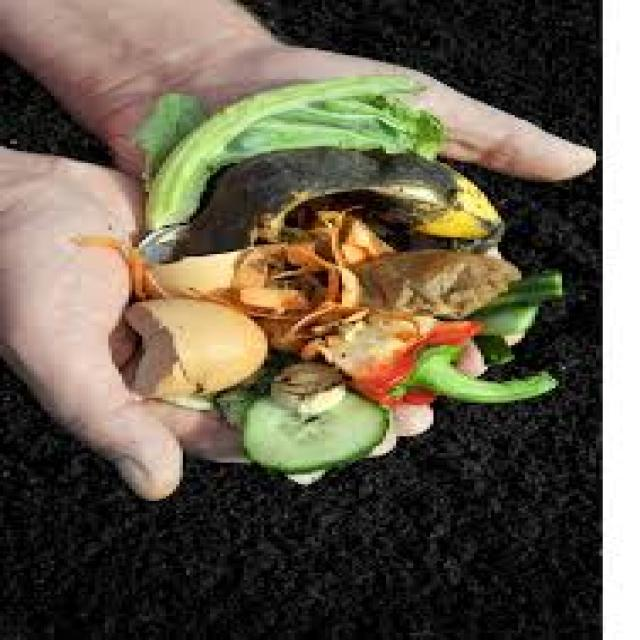Wet: (106, 62, 554, 496), (128, 77, 512, 236), (127, 274, 276, 396)
